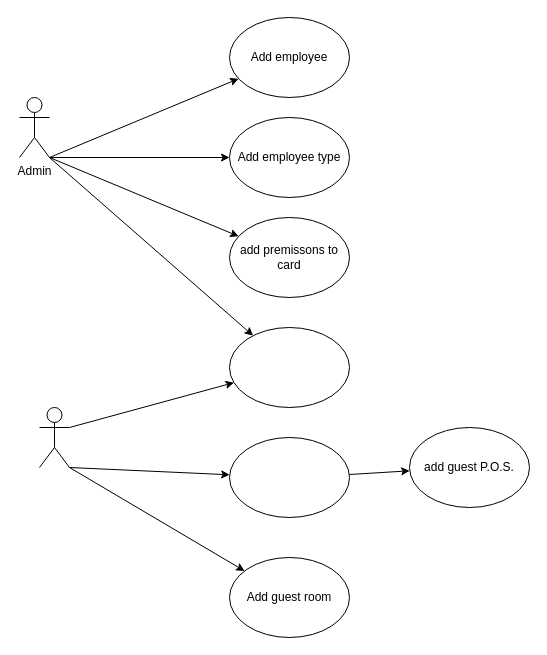
This 547x655 diagram has some shape labels left out. The centre of each missing label's shape, as x and y in pixels:
Add guest: point (289, 477)
employee: point (54, 437)
Log in: point (289, 367)
